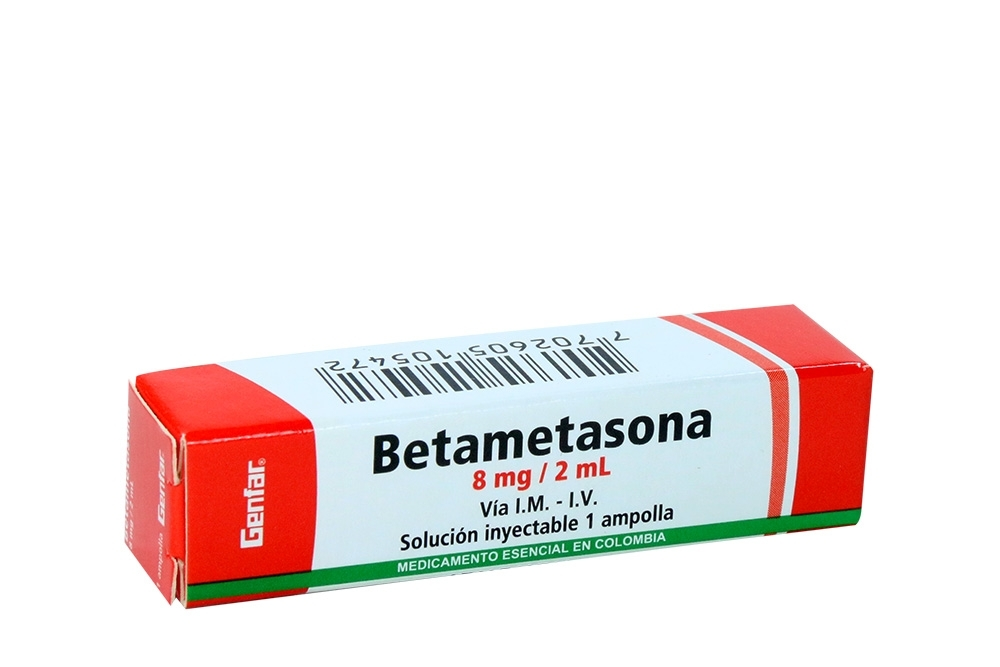Genfar: (189, 377, 864, 598)
